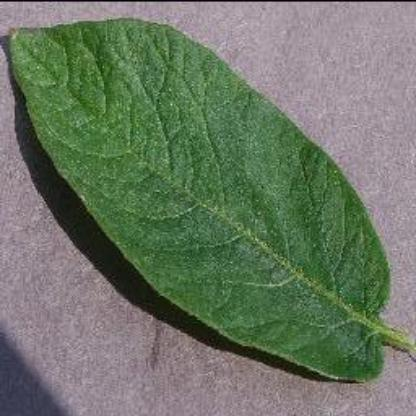Healthy-plant: (8, 17, 416, 381)
